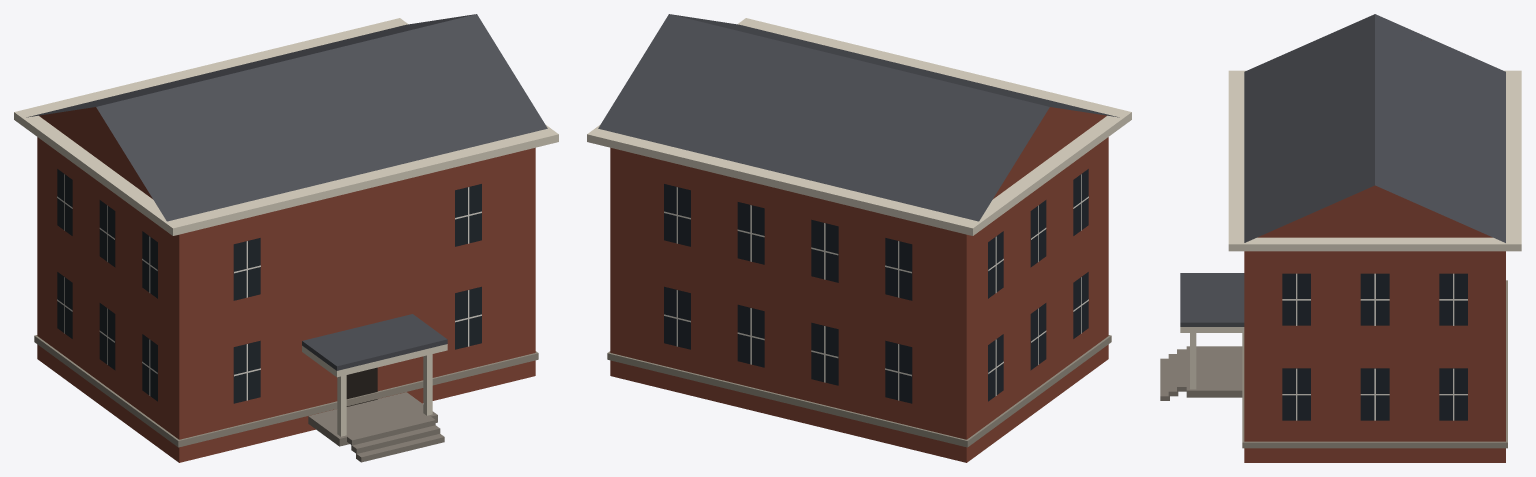
The model's file is missionary-baptist-institute-dormitory-1961.glb.
3 renders of one model, left to right at view 1: azimuth 30°, elevation 25°; view 2: azimuth 150°, elevation 25°; view 3: azimuth 270°, elevation 25°, orthographic. The views are drawn at different scales.
Parts seen in each view (by area): view 1: missionary_brick, missionary_slate, missionary_trim, missionary_glass, missionary_base, missionary_stone, missionary_sash, missionary_dark; view 2: missionary_brick, missionary_slate, missionary_glass, missionary_trim, missionary_stone, missionary_sash; view 3: missionary_brick, missionary_slate, missionary_trim, missionary_glass, missionary_base, missionary_stone, missionary_sash.
Part boxes in pixels (x1,y1,x2,y2): missionary_brick: (37, 107, 535, 462); missionary_slate: (26, 14, 547, 370); missionary_trim: (14, 18, 558, 436); missionary_glass: (57, 169, 481, 403); missionary_base: (308, 392, 444, 462); missionary_stone: (34, 335, 538, 447); missionary_sash: (57, 174, 481, 400); missionary_dark: (346, 367, 377, 406); missionary_brick: (610, 107, 1108, 462); missionary_slate: (598, 14, 1119, 221); missionary_glass: (664, 169, 1088, 403); missionary_trim: (587, 18, 1131, 235); missionary_stone: (607, 335, 1111, 447); missionary_sash: (664, 174, 1088, 400); missionary_brick: (1244, 185, 1505, 462); missionary_slate: (1180, 14, 1505, 326); missionary_trim: (1180, 70, 1521, 389); missionary_glass: (1282, 273, 1467, 420); missionary_base: (1160, 346, 1242, 400); missionary_stone: (1242, 280, 1507, 448); missionary_sash: (1282, 273, 1467, 420).
Size of the model in its own units: 15.7 by 11.94 by 13.81.
